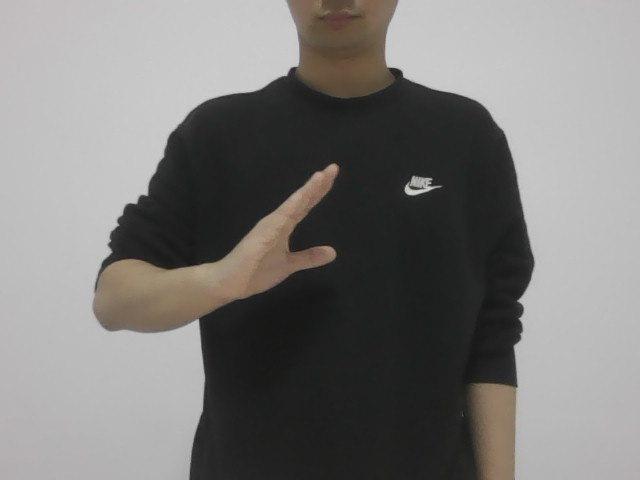morning: (218, 161, 351, 303)
